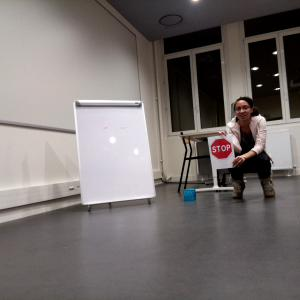stop: (211, 138, 233, 159)
